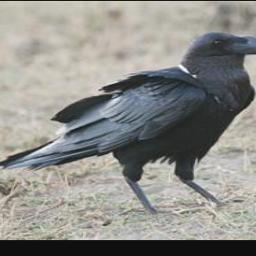Crow: (0, 31, 256, 215)
